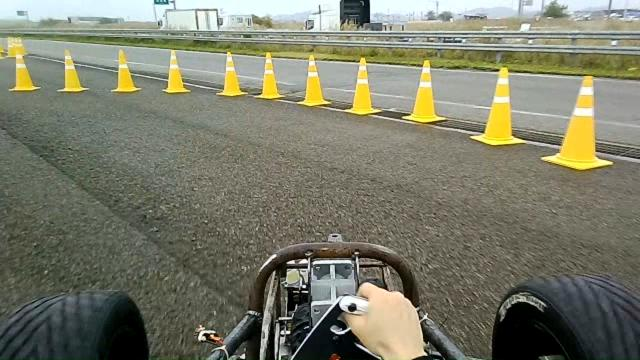yellow cone: (540, 74, 614, 170), (470, 66, 526, 146), (401, 59, 447, 123), (343, 56, 382, 116), (296, 54, 332, 107), (253, 51, 286, 100), (215, 50, 248, 97), (8, 48, 41, 91), (110, 48, 141, 93), (56, 49, 88, 92), (161, 49, 191, 94)
